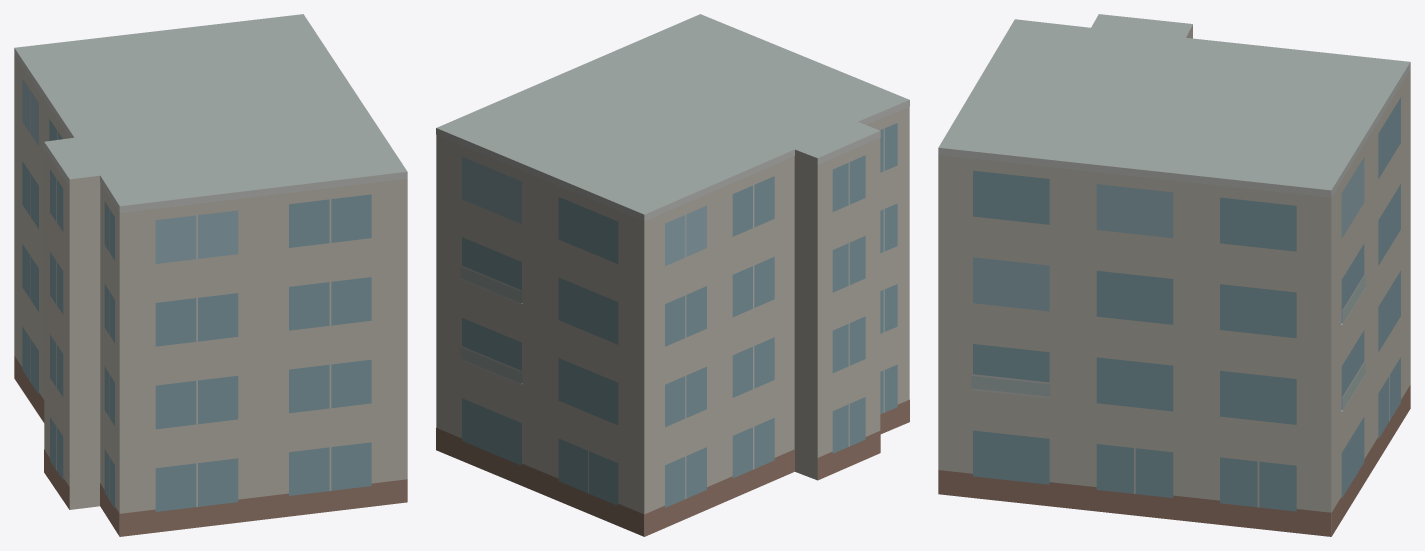
File: survey-upis-33012491.glb
3 views of the same model, side by side, from view 1: azimuth 30°, elevation 25°; view 2: azimuth 150°, elevation 25°; view 3: azimuth 270°, elevation 25° (orthographic). The views are drawn at different scales.
Visible parts, largest first — view 1: survey-upis-33012491.tmp; view 2: survey-upis-33012491.tmp; view 3: survey-upis-33012491.tmp.
Boxes of the visible parts, x1=… form: survey-upis-33012491.tmp: x1=14, y1=14, x2=407, y2=536; survey-upis-33012491.tmp: x1=436, y1=14, x2=909, y2=536; survey-upis-33012491.tmp: x1=938, y1=14, x2=1410, y2=536.
Bounding box in the file's own units: 12.78 × 11.7 × 14.46.
